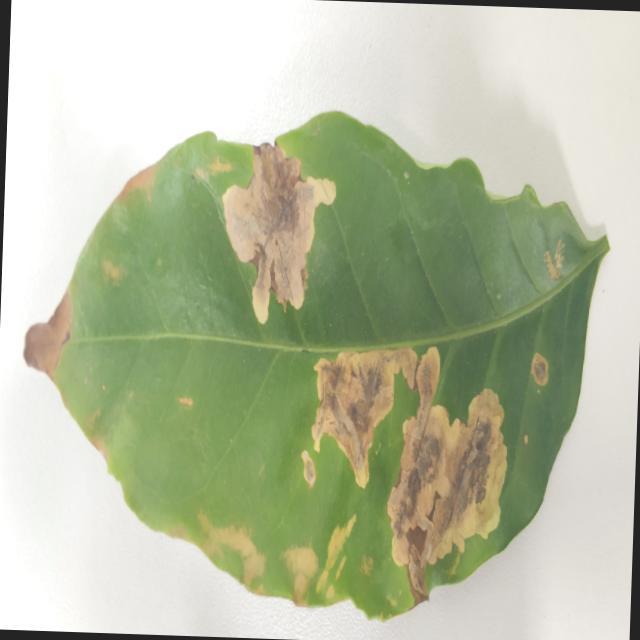PengorokDaunKopi: (387, 347, 506, 602), (222, 144, 335, 323), (311, 348, 417, 487), (197, 512, 265, 589), (23, 291, 71, 379), (316, 514, 356, 592), (280, 546, 318, 603), (116, 164, 156, 200), (544, 239, 564, 279), (102, 259, 125, 285), (301, 450, 316, 488), (531, 353, 548, 385), (207, 156, 234, 174), (91, 438, 107, 461), (166, 527, 189, 541), (334, 555, 346, 580), (359, 555, 373, 576), (195, 167, 208, 181), (254, 583, 265, 595), (179, 397, 192, 406), (326, 585, 334, 599), (403, 171, 409, 179), (524, 434, 528, 444)
